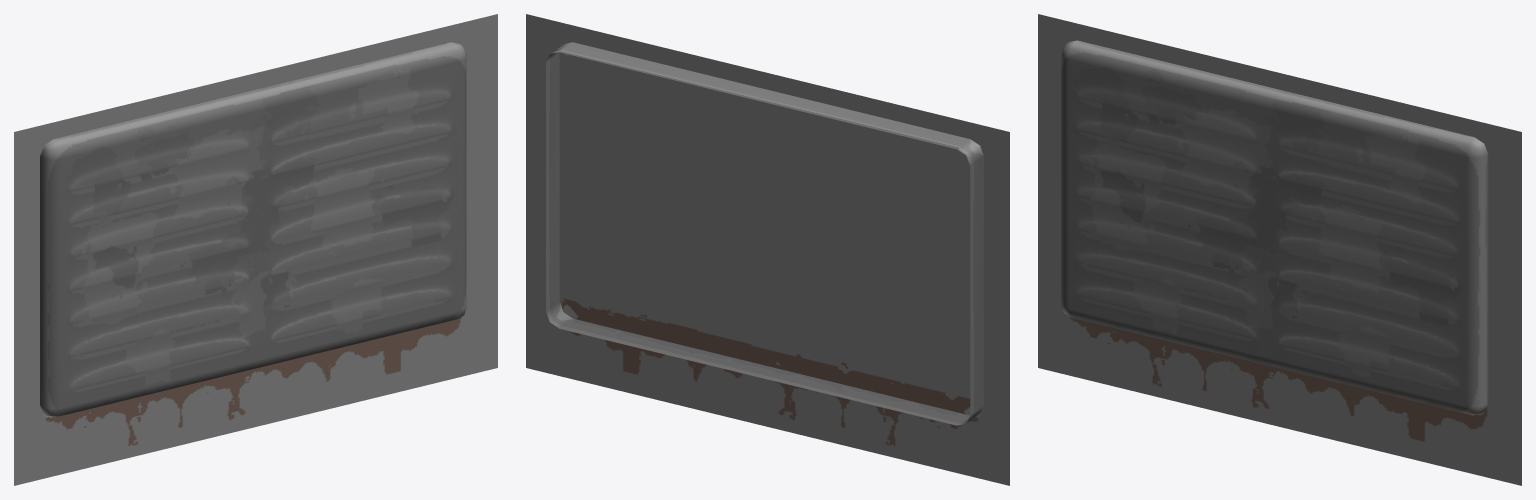
Rendered from Env_Vent_01.fbx.
The picture shows the model from 3 angles, left to right: view 1: azimuth 30°, elevation 25°; view 2: azimuth 150°, elevation 25°; view 3: azimuth 330°, elevation 25°; orthographic projection.
Visible parts, largest first — view 1: Env_Vent_01; view 2: Env_Vent_01; view 3: Env_Vent_01.
Boxes of the visible parts, x1,y1,x2,y2 form: Env_Vent_01: (14, 14, 497, 485); Env_Vent_01: (526, 14, 1009, 485); Env_Vent_01: (1038, 14, 1521, 485).
Size of the model in its own units: 114 by 80.02 by 9.02.
